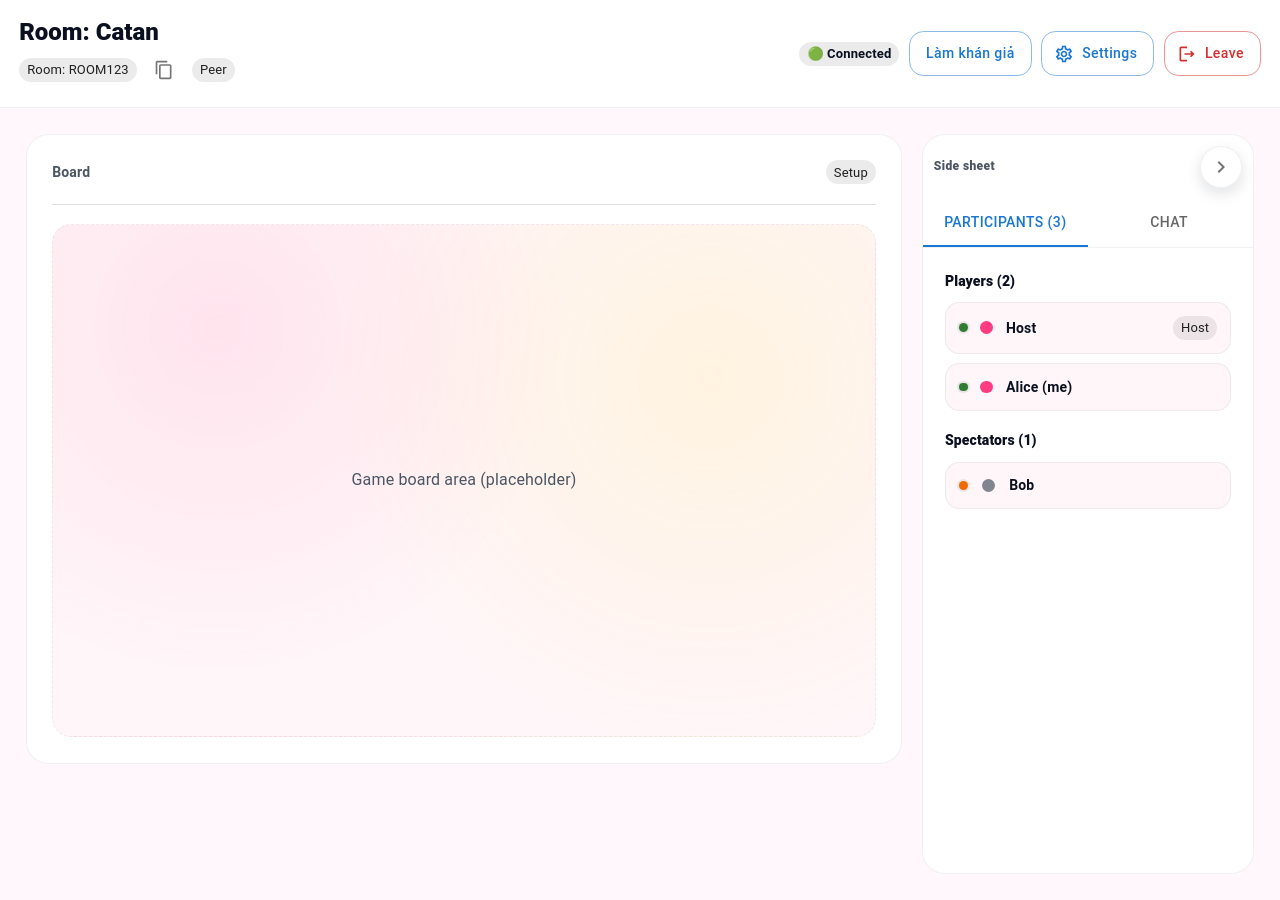
GameRoomPage › layout invariants: message list scrolls and composer remains separate
Step 2) open the Chat tab
Click the tab "Chat": [1171, 223] box [1088,199,1253,247]
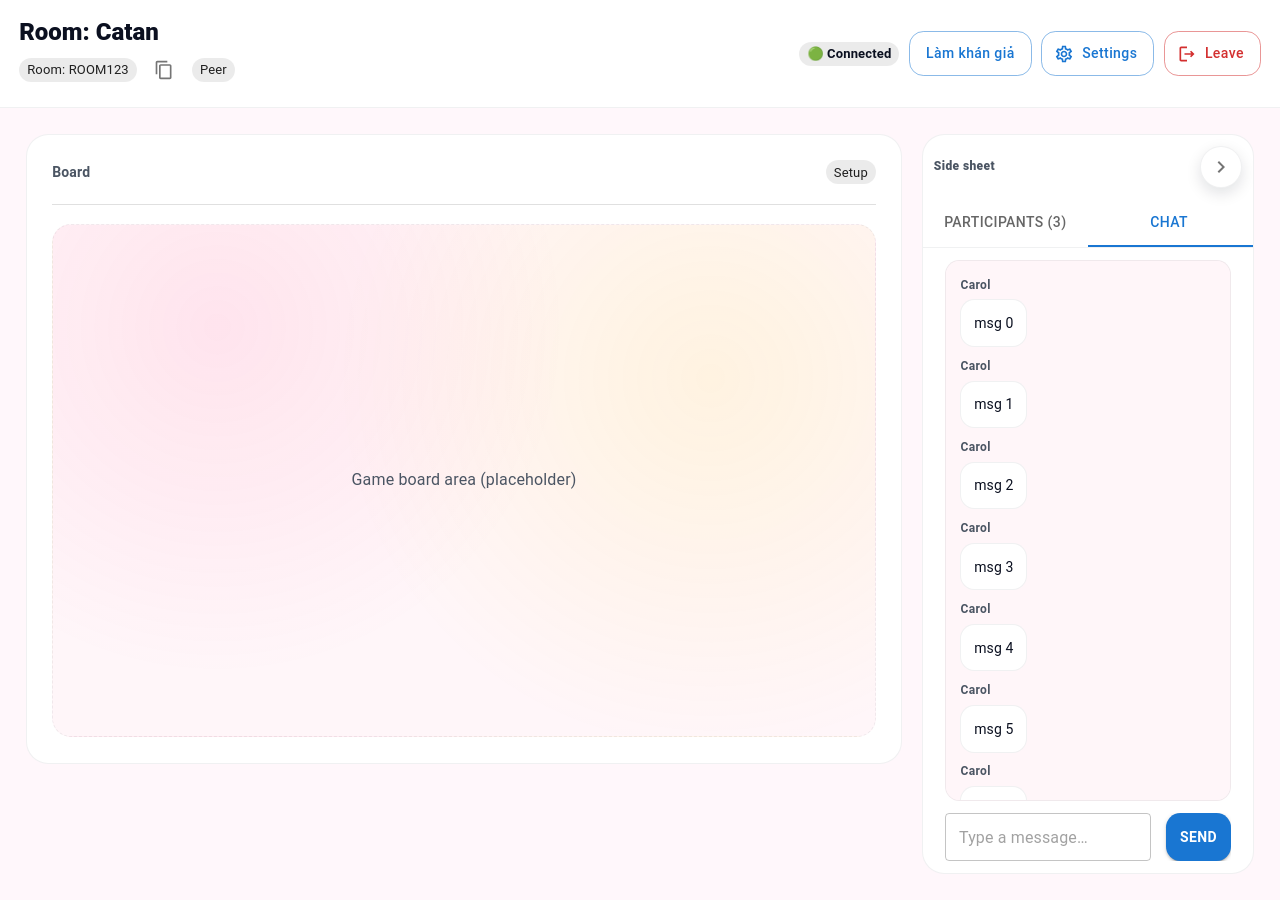
Now the element with test id "chat-composer" is shown, box [945,813,1231,861]
